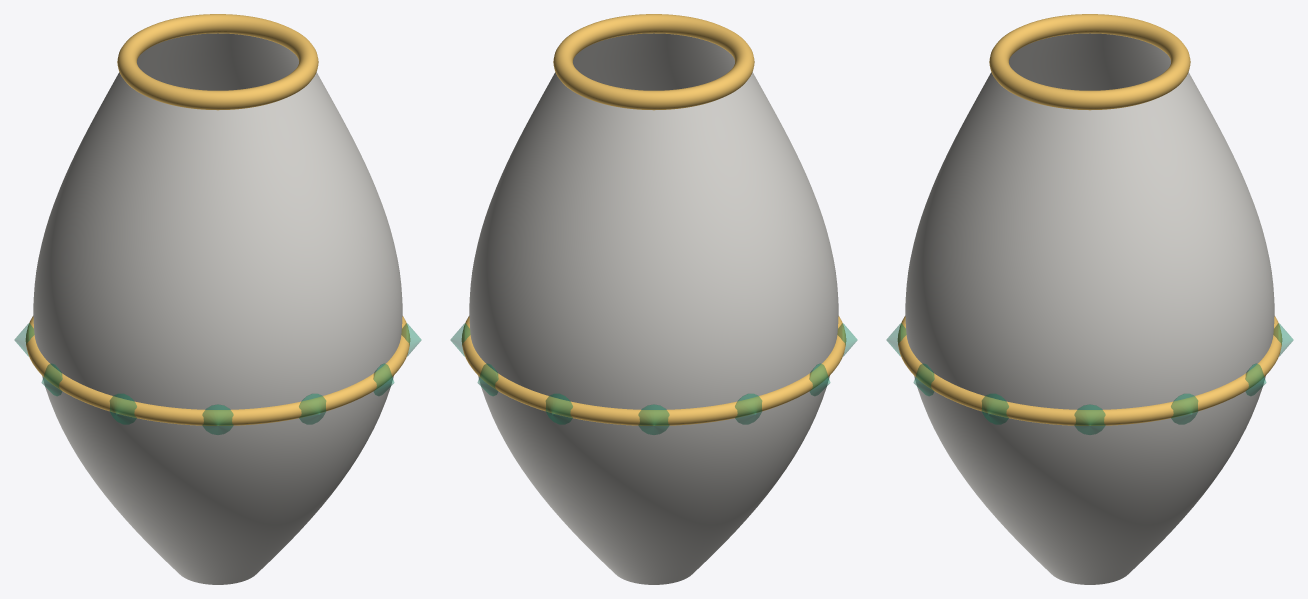
Rendered from ceramica.glb.
The picture shows the model from 3 angles, left to right: view 1: azimuth 30°, elevation 25°; view 2: azimuth 150°, elevation 25°; view 3: azimuth 270°, elevation 25°; orthographic projection.
Bounding box in the file's own units: 1.46 × 2.04 × 1.46.
